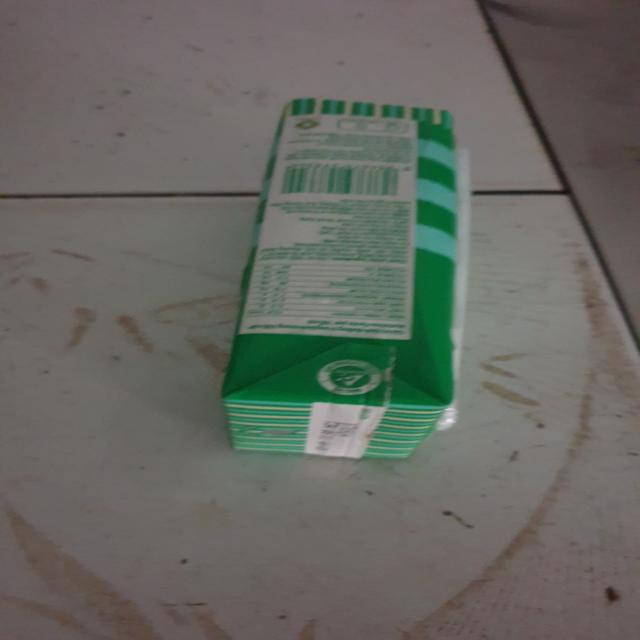Vina: (211, 92, 481, 466)
